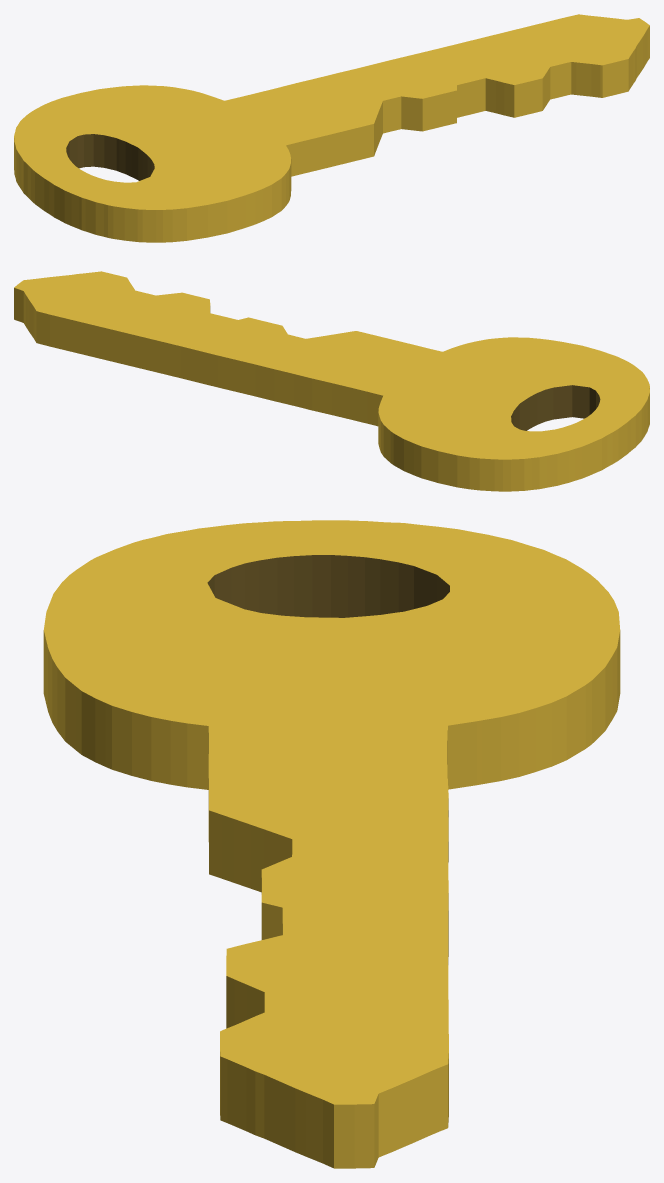
The model's file is Key.fbx.
The picture shows the model from 3 angles, top to bottom: view 1: azimuth 30°, elevation 25°; view 2: azimuth 150°, elevation 25°; view 3: azimuth 270°, elevation 25°; orthographic projection. The views are drawn at different scales.
Parts seen in each view (by area): view 1: Plane; view 2: Plane; view 3: Plane.
Boxes of the visible parts, left/top/right/bottom form: Plane: left=14, top=14, right=649, bottom=242; Plane: left=14, top=271, right=649, bottom=491; Plane: left=43, top=520, right=620, bottom=1168.
Bounding box in the file's own units: 500 × 25.55 × 209.
